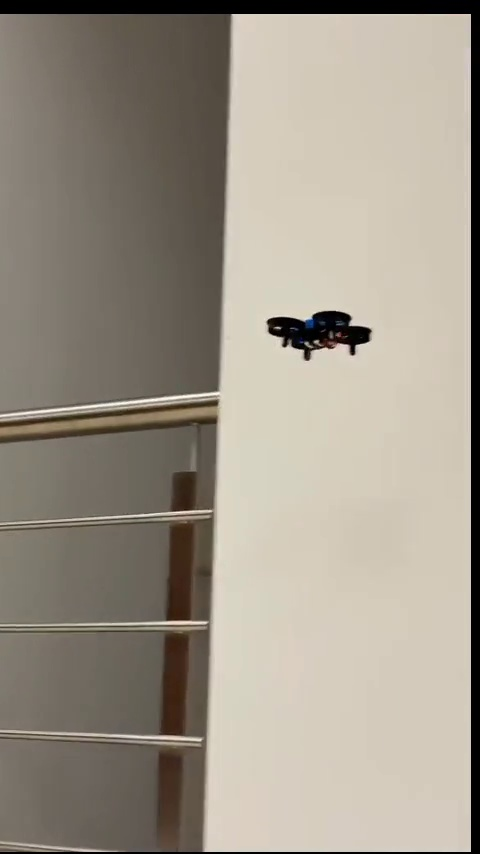drone: (270, 313, 370, 360)
